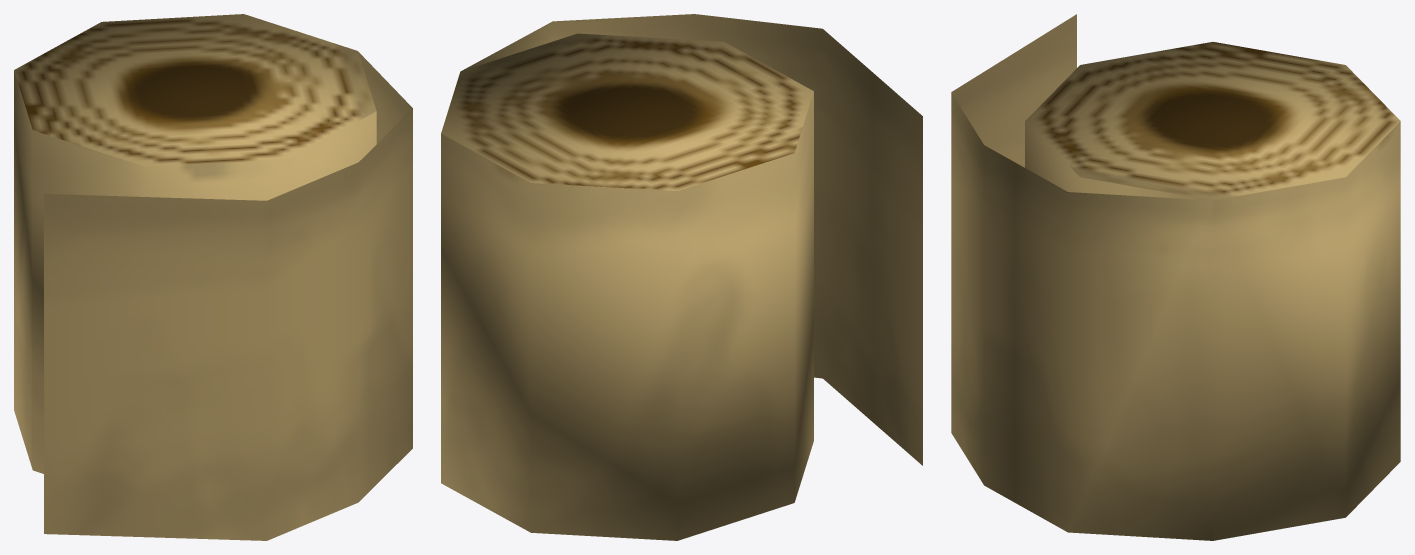
File: bandage.glb
3 renders of one model, left to right at view 1: azimuth 30°, elevation 25°; view 2: azimuth 150°, elevation 25°; view 3: azimuth 270°, elevation 25°, orthographic. The views are drawn at different scales.
Parts seen in each view (by area): view 1: Cylinder; view 2: Cylinder; view 3: Cylinder.
Part boxes in pixels (<box>): Cylinder: <box>14,14,412,540</box>; Cylinder: <box>441,14,922,540</box>; Cylinder: <box>951,14,1400,540</box>.
Size of the model in its own units: 0.9399 by 0.8 by 0.9576.
1 material, 1 textured.
